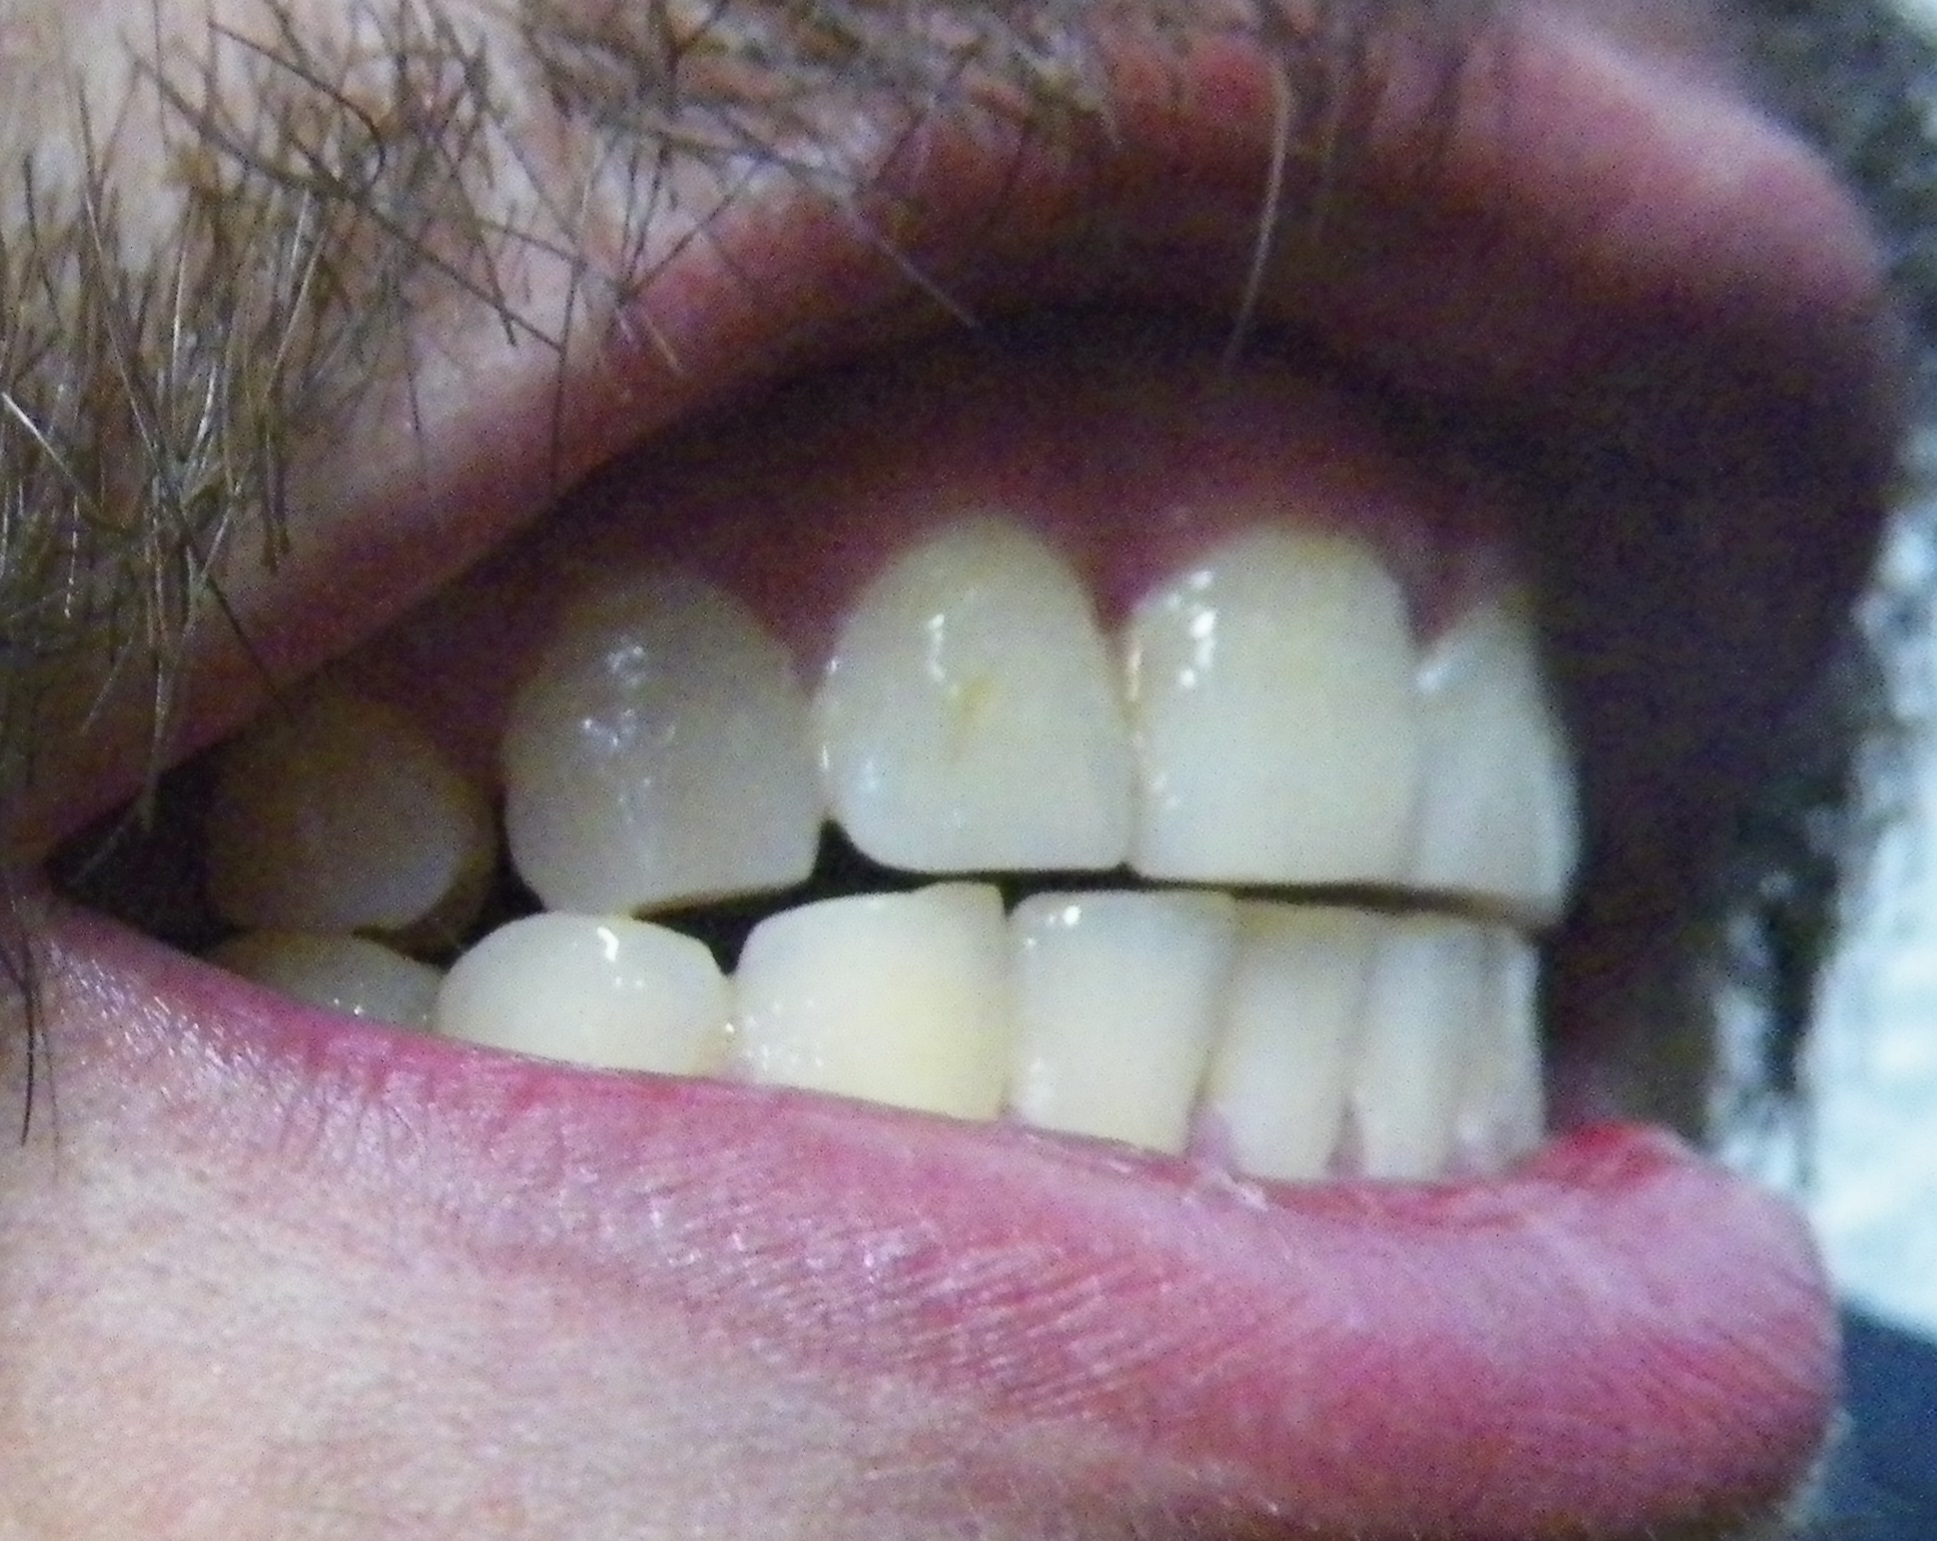boca: (219, 528, 1579, 1178)
